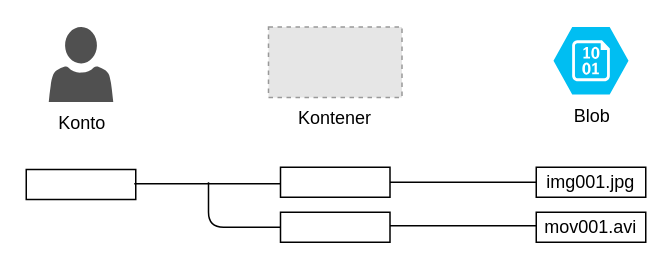
Image size: 672x269. Some labels were removed from this diagram. Grey dashed boxes stand in for pictures. Each missing label, with the centre of its shape:
"Filmy" goes at (x=334, y=226).
"Obrazy" goes at (x=334, y=181).
